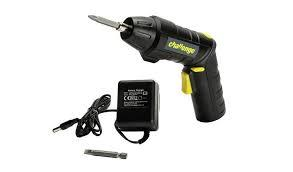screwdriver: (119, 15, 226, 121), (82, 145, 127, 159), (86, 12, 120, 26)
